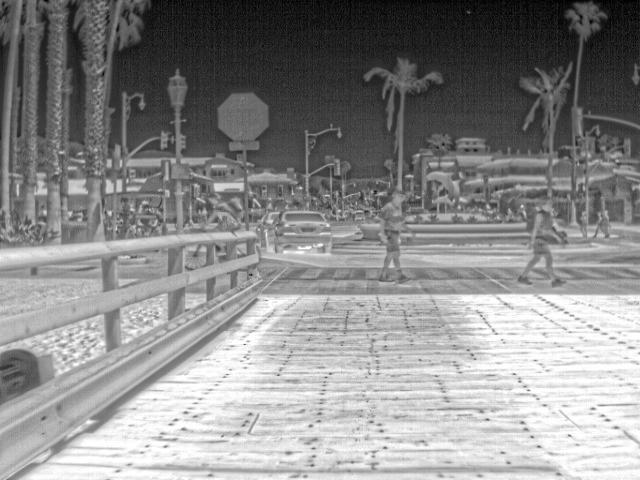car: (274, 209, 334, 256), (257, 212, 279, 247), (351, 210, 369, 223)
person: (516, 200, 571, 287), (374, 193, 407, 285), (204, 194, 242, 232), (593, 206, 613, 240), (579, 201, 595, 236)
